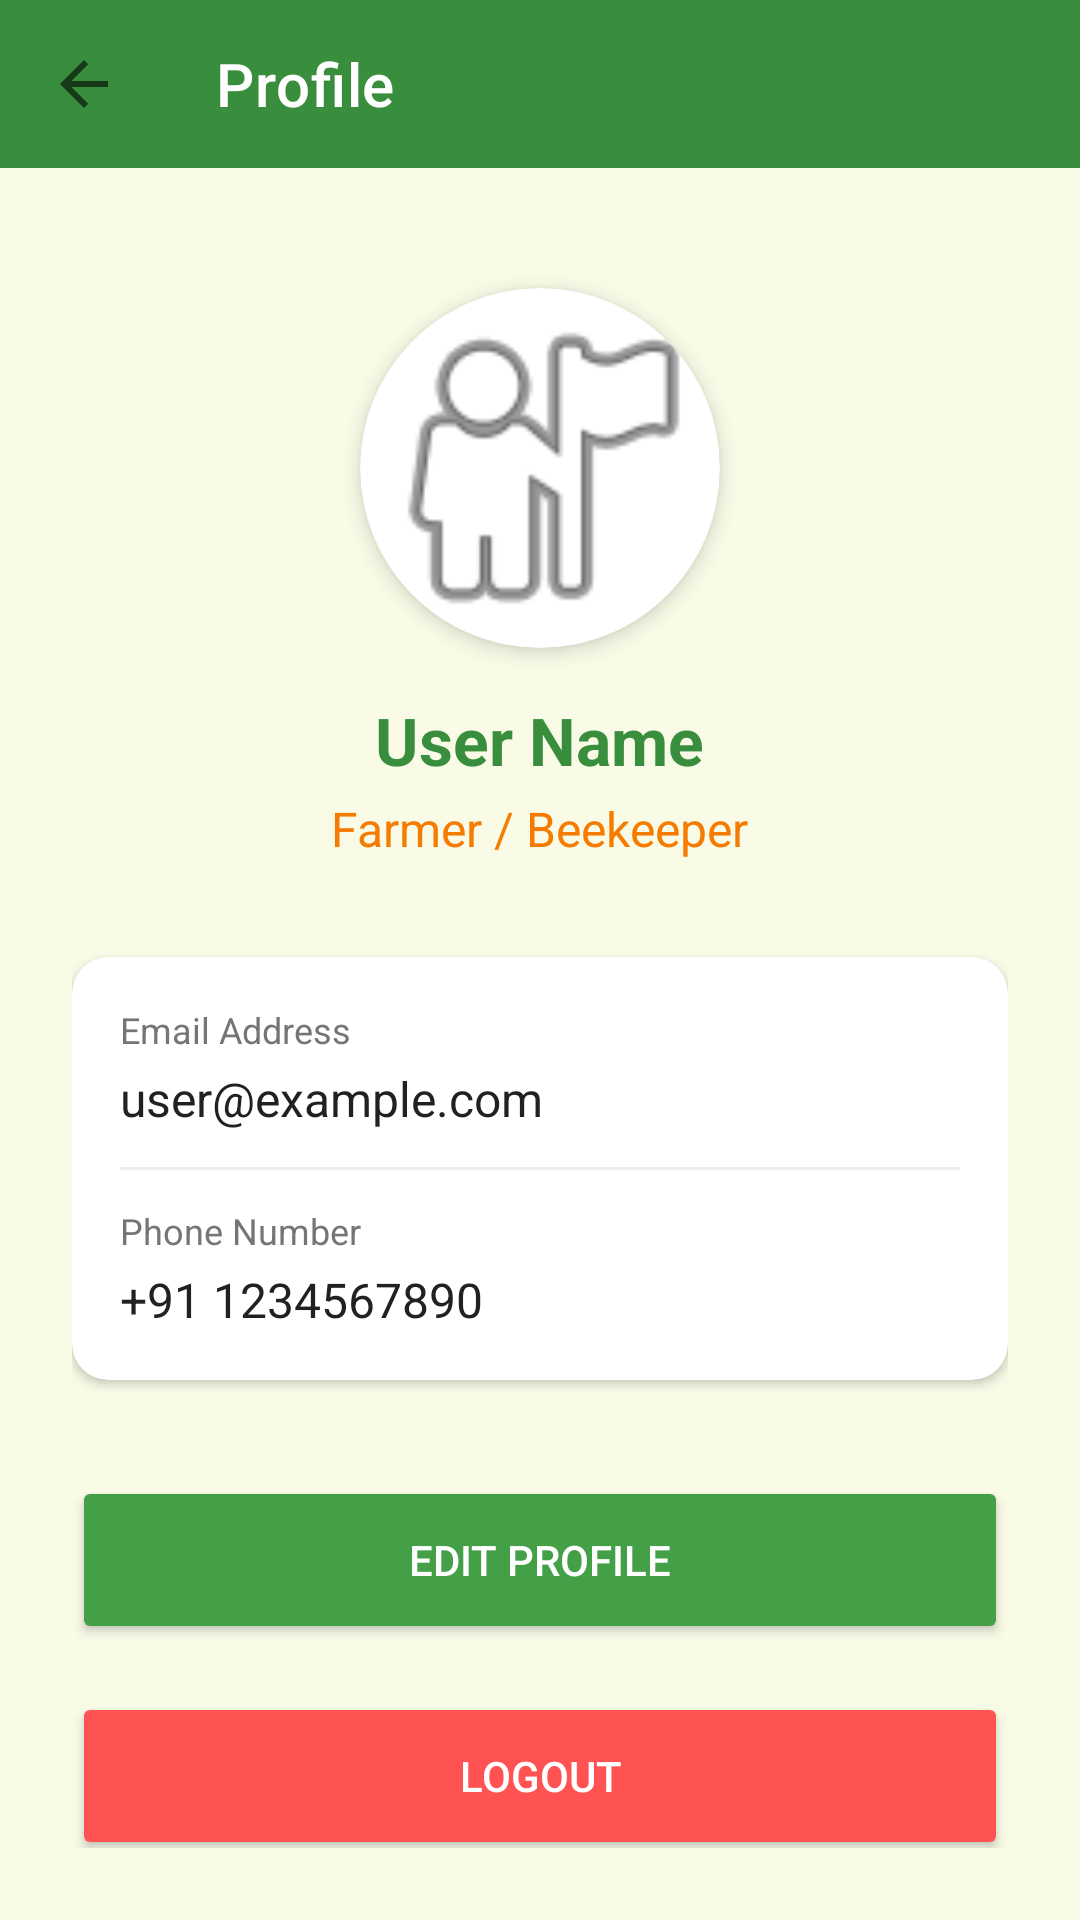

Locate icon controls on the screen. Image size 1080x1920, boxes as rect(x1, y1, x2, y2).
Profile Picture: rect(361, 288, 719, 648)
